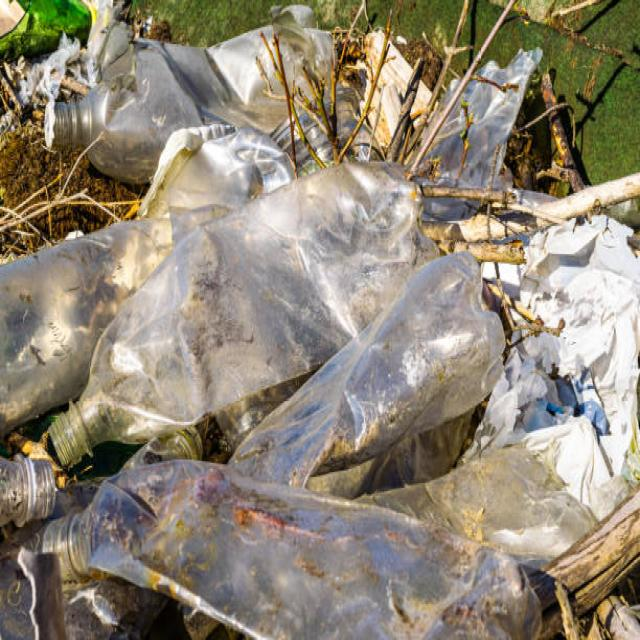plastic: (1, 187, 595, 606)
